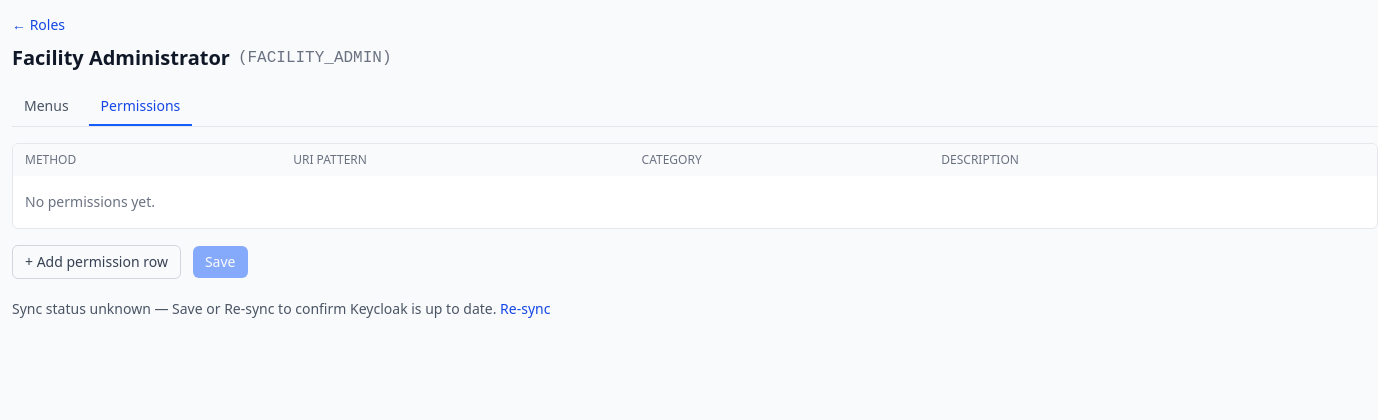
RolePermissionsTab › on a sync failure keeps the saved rows and shows the shared retry notice (not a toast)
This screenshot has width=1378, height=420.
Check: the text "No permissions yet." is shown, box [13,176,1377,228]
Click the button "+ Add permission row".
click(96, 262)  # box [12,245,181,279]
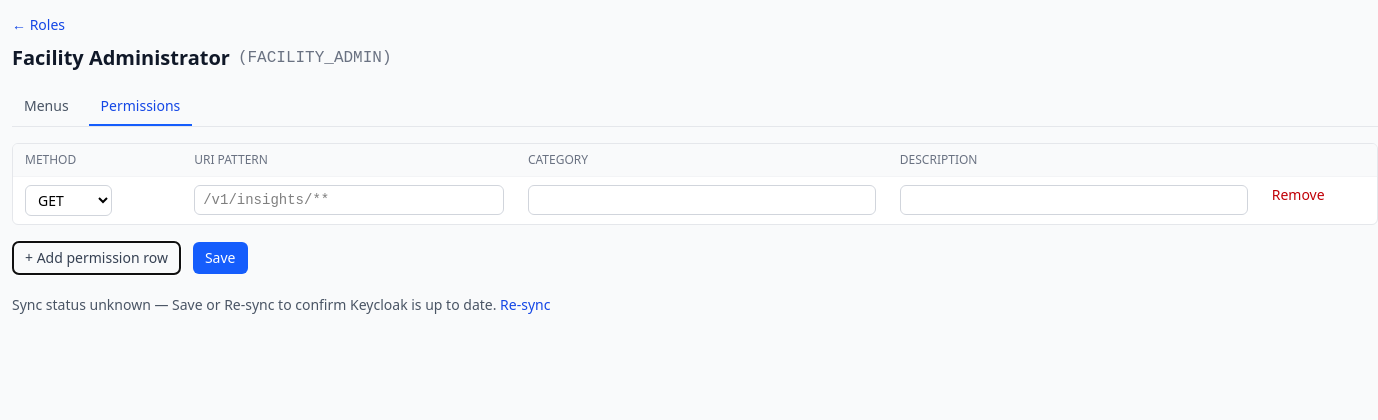
Type "/v1/saved/**" into the field named "URI pattern, row 1".
click(349, 200); type("/v1/saved/**")  # box [194,185,504,215]
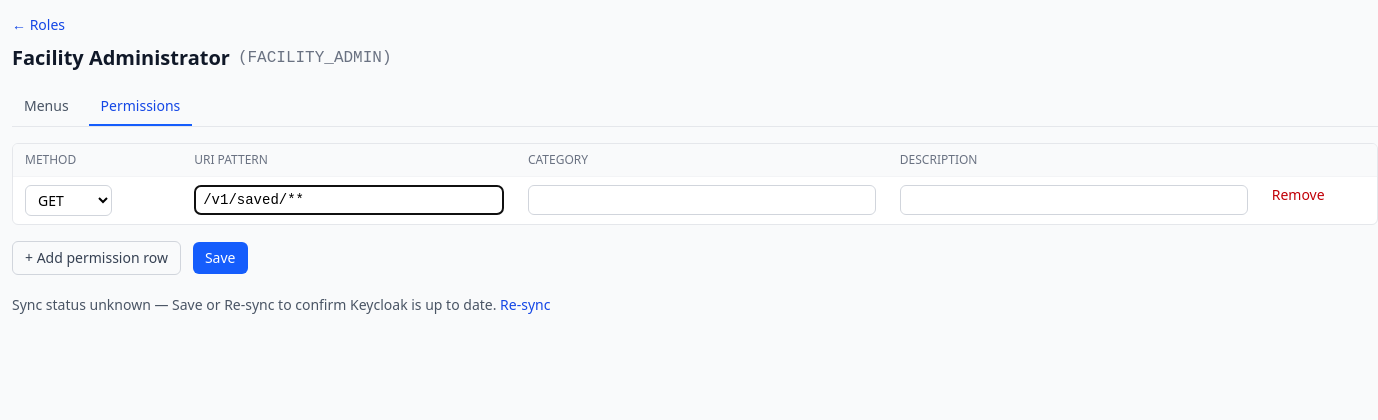
Click the button "Save".
click(220, 258)  # box [193,242,248,274]
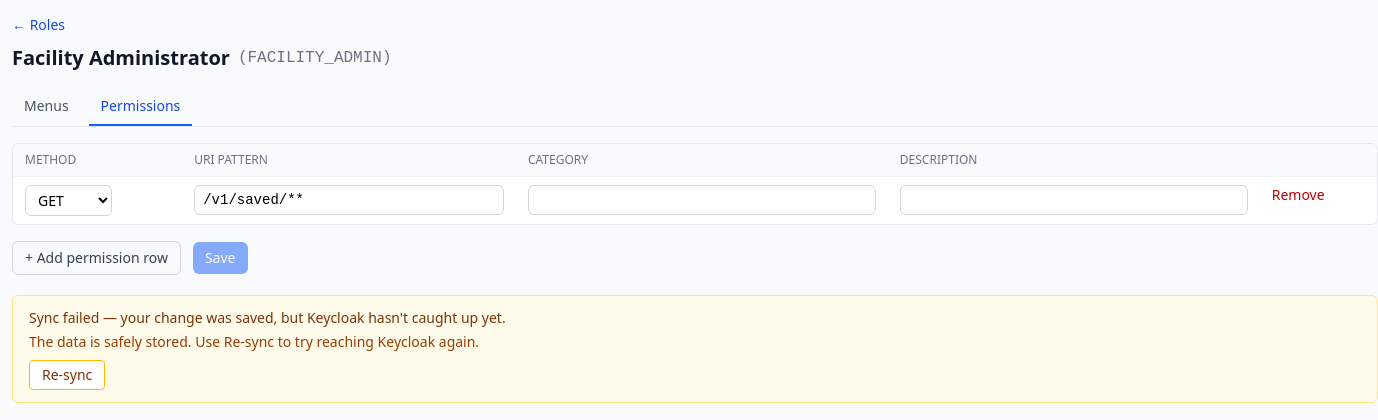
Check: the button "Re-sync" is shown, box [29,360,105,390]
Check: the field showing "/v1/saved/**" is shown, box [194,185,504,215]
Check: the text "Sync failed — your change was saved" is shown, box [29,308,506,327]
